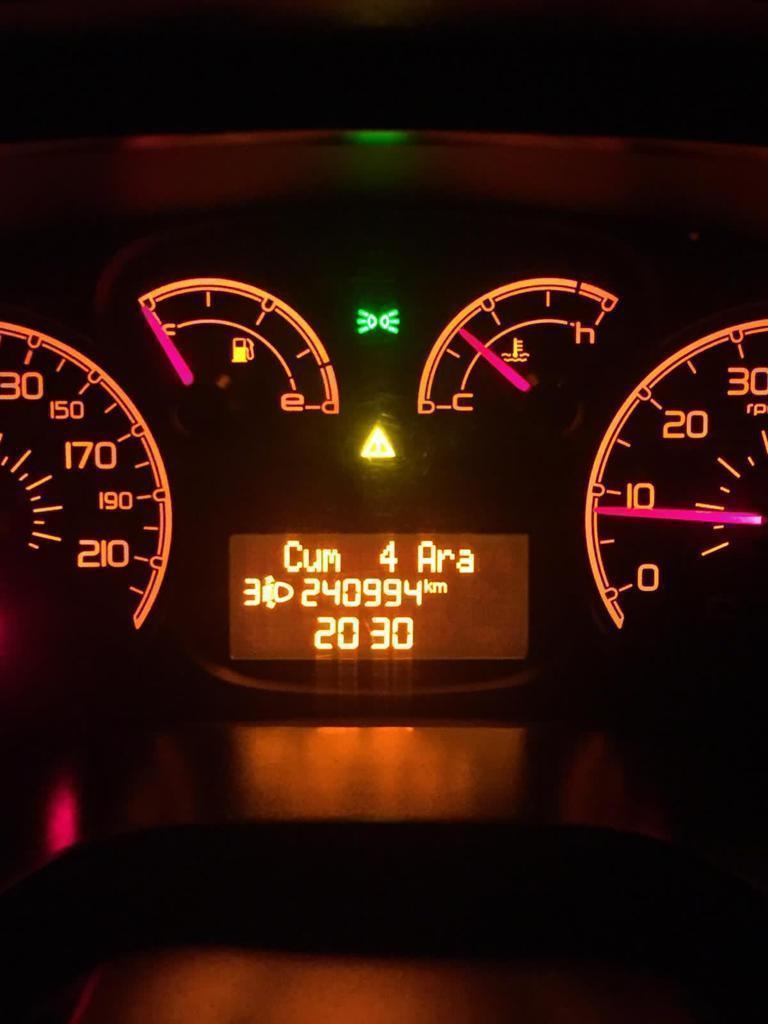0: (337, 614, 359, 652), (391, 615, 414, 650), (341, 576, 361, 608)
2: (312, 614, 337, 651), (299, 576, 320, 608)
3: (366, 615, 390, 652), (239, 576, 261, 607)
4: (376, 538, 399, 573), (320, 576, 342, 606), (403, 577, 421, 607)
9: (362, 575, 382, 609), (383, 576, 402, 609)
X: (282, 536, 302, 574), (415, 538, 436, 574), (301, 545, 322, 574), (455, 546, 476, 575), (321, 545, 341, 574), (436, 546, 455, 574), (432, 579, 448, 594), (422, 577, 432, 595)
odometer: (221, 525, 534, 669)
